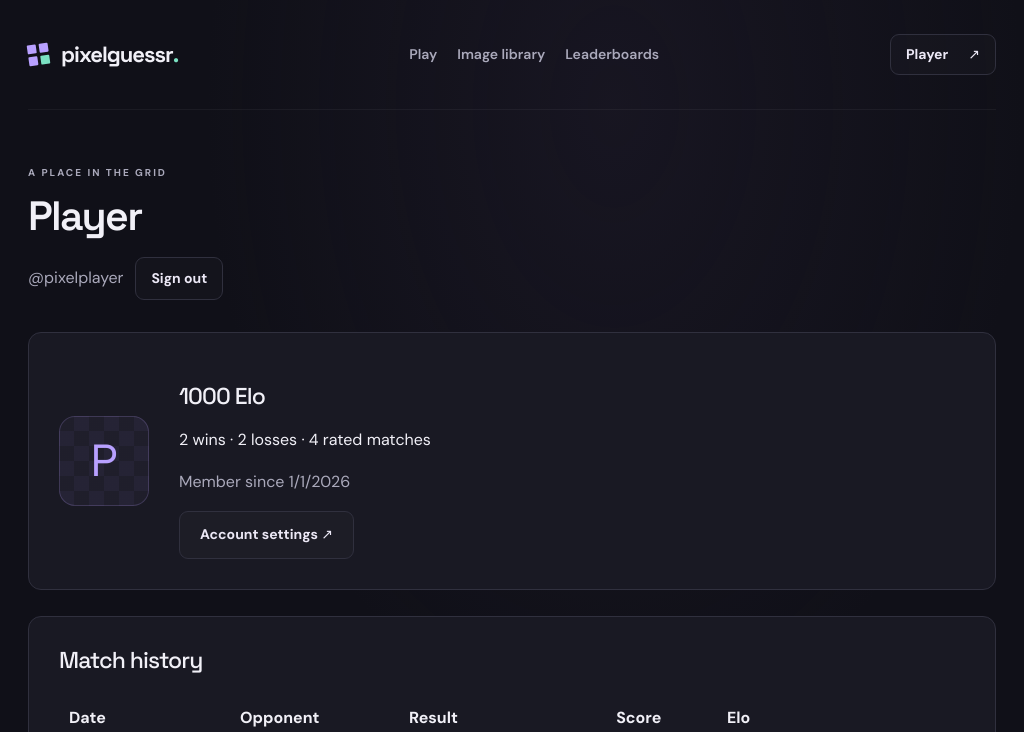
Test: places sign out next to the username on the own profile and retains settings navigation
The image size is (1024, 732).
What coordinates should you click on to do the following:
click the button "Sign out"
I would click on:
 (179, 279)
Its box is [135,257,223,300].
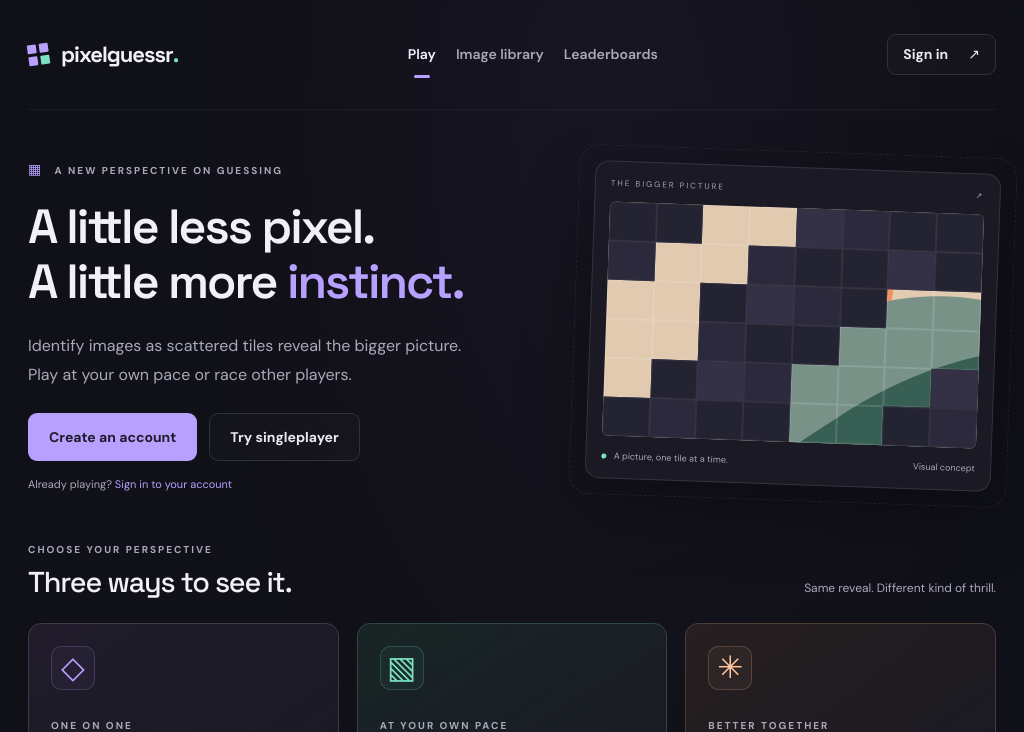
Expected: the heading "A little less pixel.A little more instinct." is shown, [28,196,464,312]
Expected: the link "Sign in ↗" is shown, [887,34,996,75]
